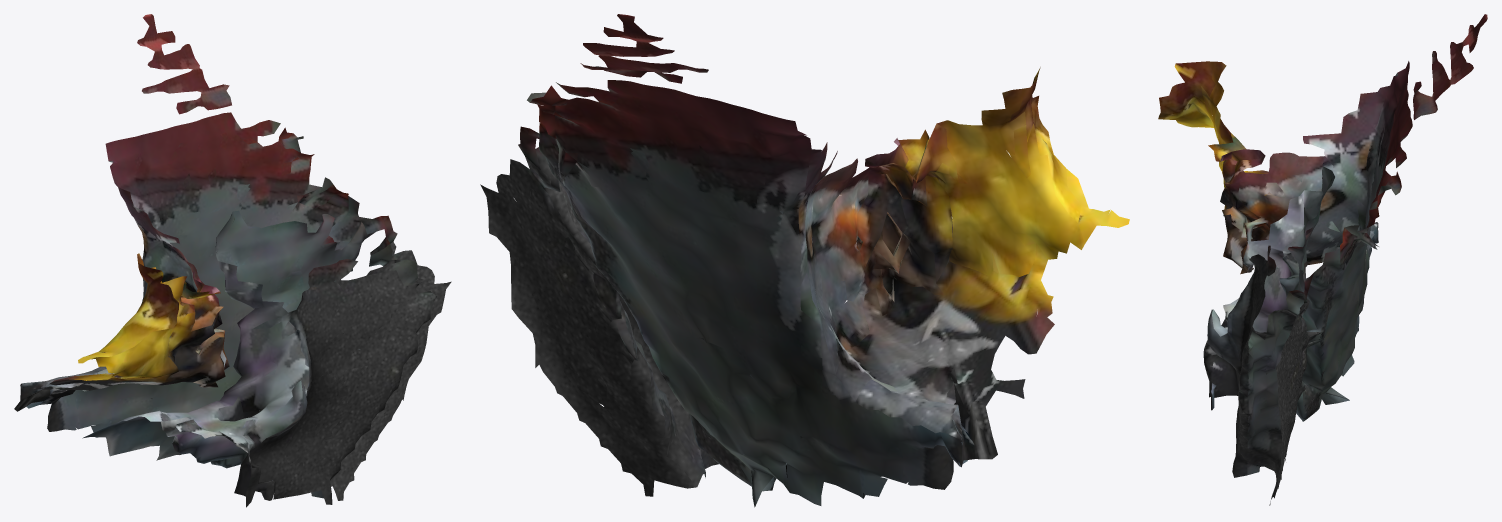
File: scan_20260927_201501_1509.glb
3 views of the same model, side by side, from view 1: azimuth 30°, elevation 25°; view 2: azimuth 150°, elevation 25°; view 3: azimuth 270°, elevation 25° (orthographic). The views are drawn at different scales.
Visible parts, largest first — view 1: MobileScan3D_Textured; view 2: MobileScan3D_Textured; view 3: MobileScan3D_Textured.
Part boxes in pixels (x1,y1,x2,y2): MobileScan3D_Textured: [14, 14, 451, 507]; MobileScan3D_Textured: [480, 14, 1129, 507]; MobileScan3D_Textured: [1158, 14, 1487, 505].
Bounding box in the file's own units: 0.1072 × 0.1077 × 0.072.
Materials: 1 (1 with a texture image).
